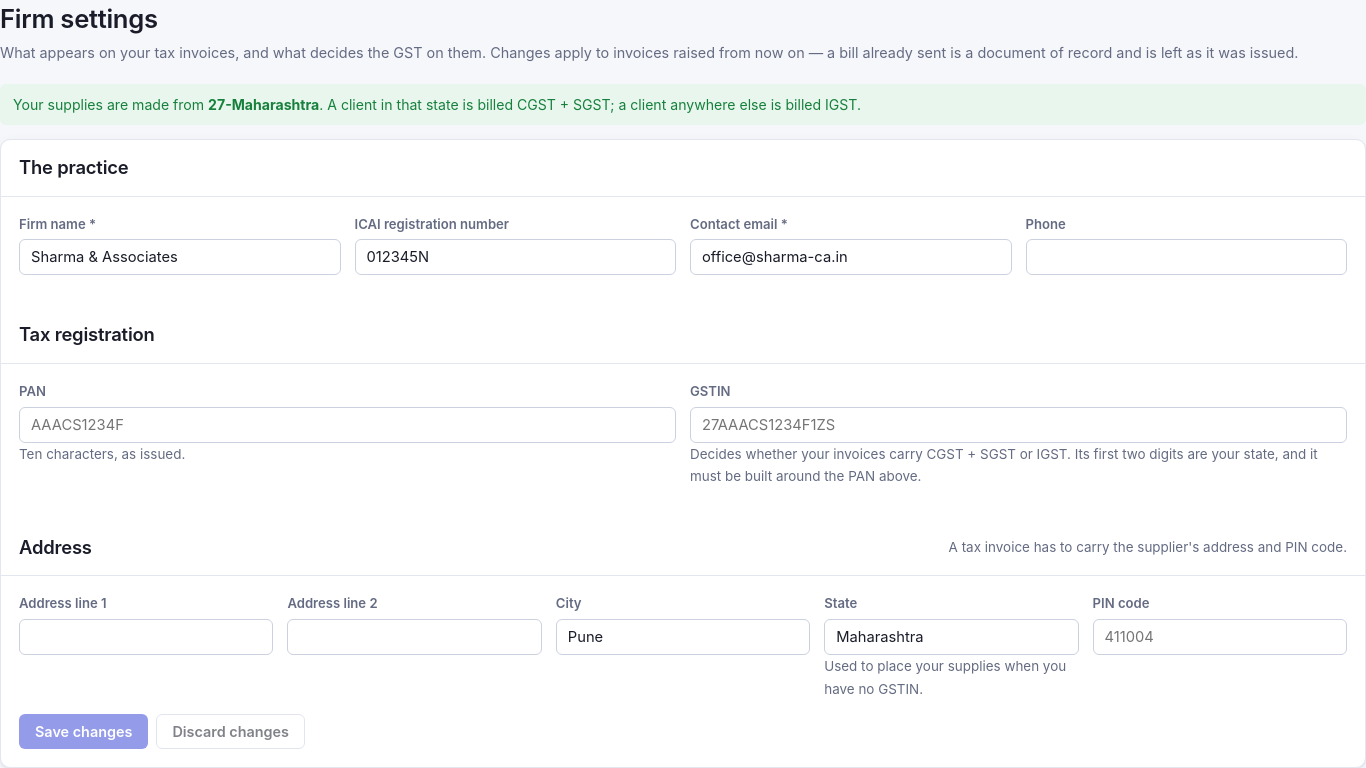
Test: Editing the firm › confirms the save in terms of what it affects
Step 1. Type "!" into the field labelled "City" → (683, 637), box [556,619,810,655]
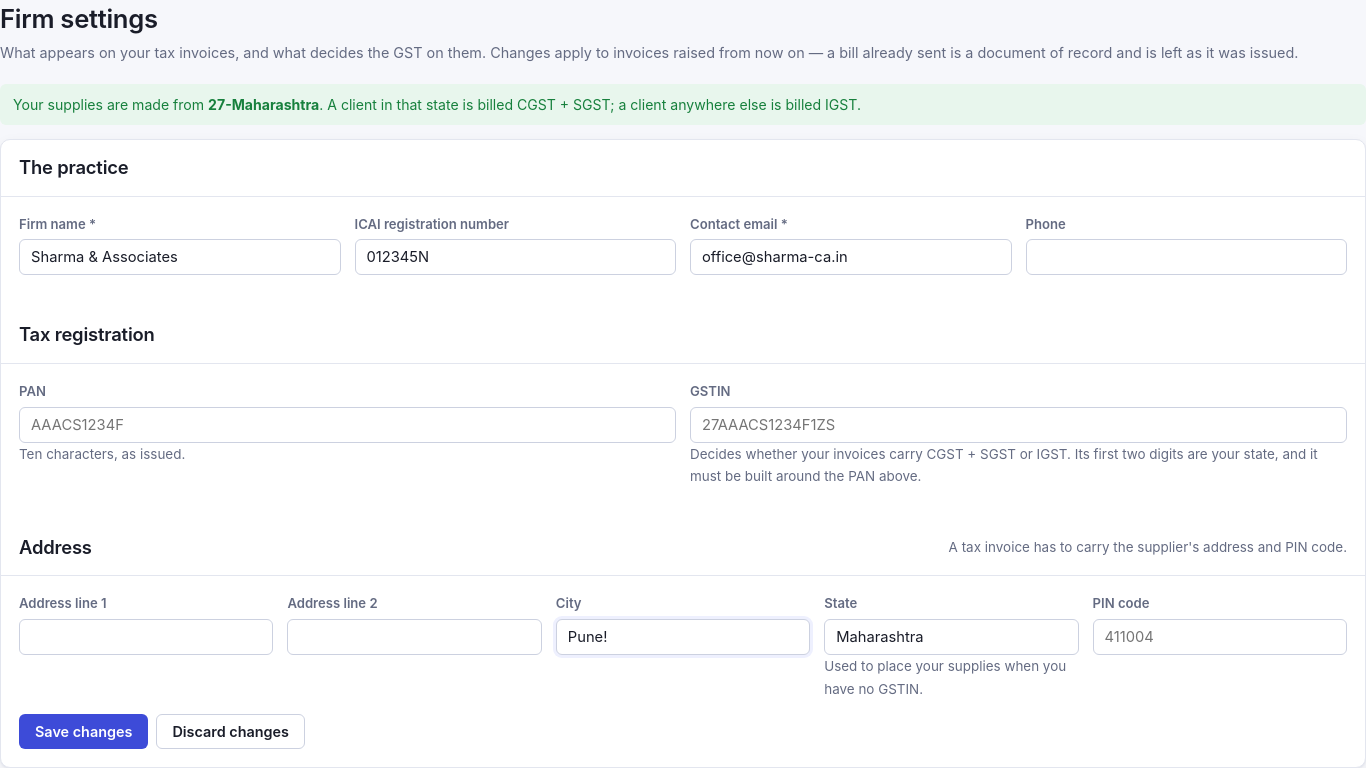
Step 2. Click the button "Save changes" → (84, 732), box [19,714,148,749]
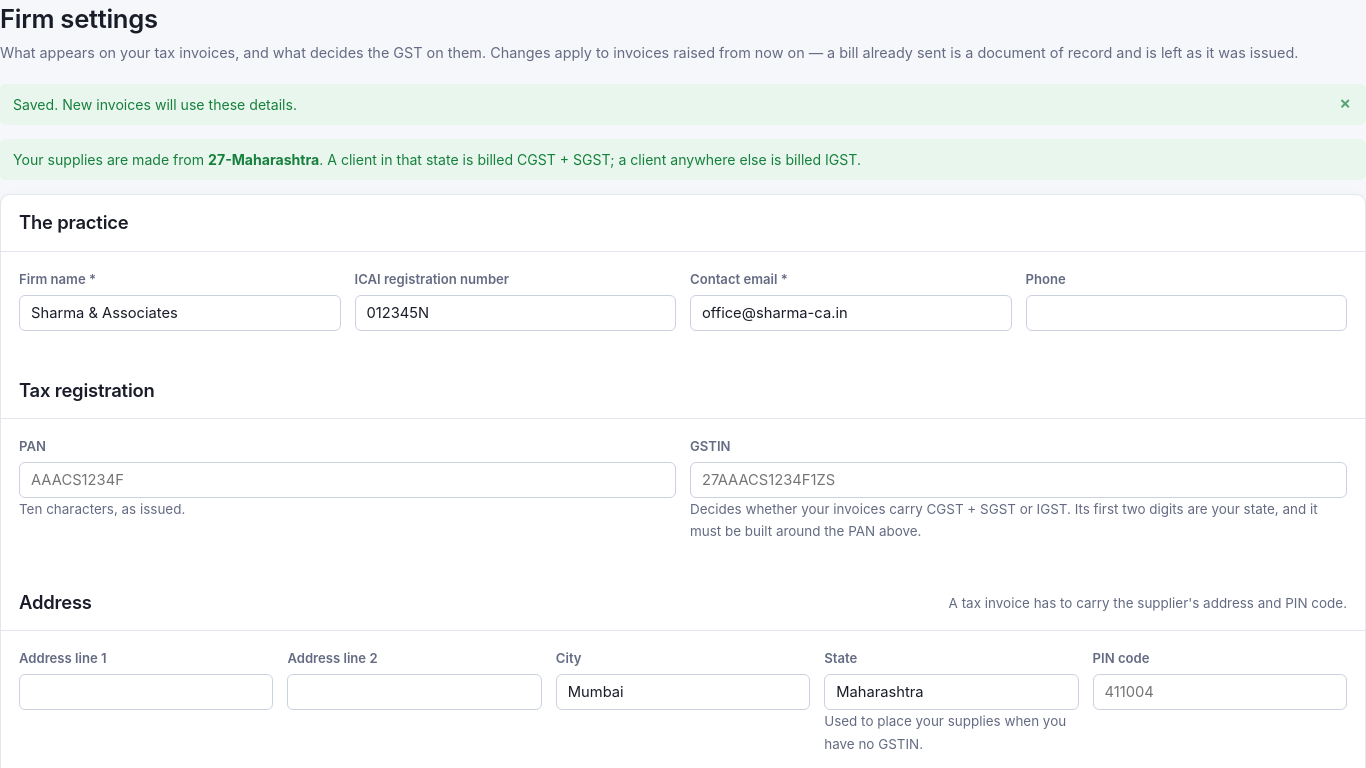
Check: the text "Saved. New invoices will use these details." is shown, box [13,94,297,115]
